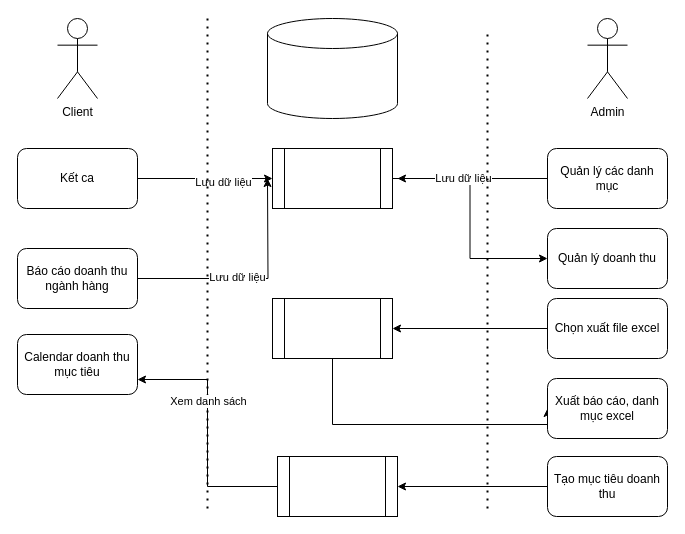
This 685x534 diagram has some shape labels left out. The centre of each missing label's shape, as x and y in pixels:
Chia target cho từng ngày trong tháng: the point at 337,486
Cơ sở dữ liệu: the point at 332,178
System: the point at 332,68
Xử lý dữ liệu, xml: the point at 332,328
